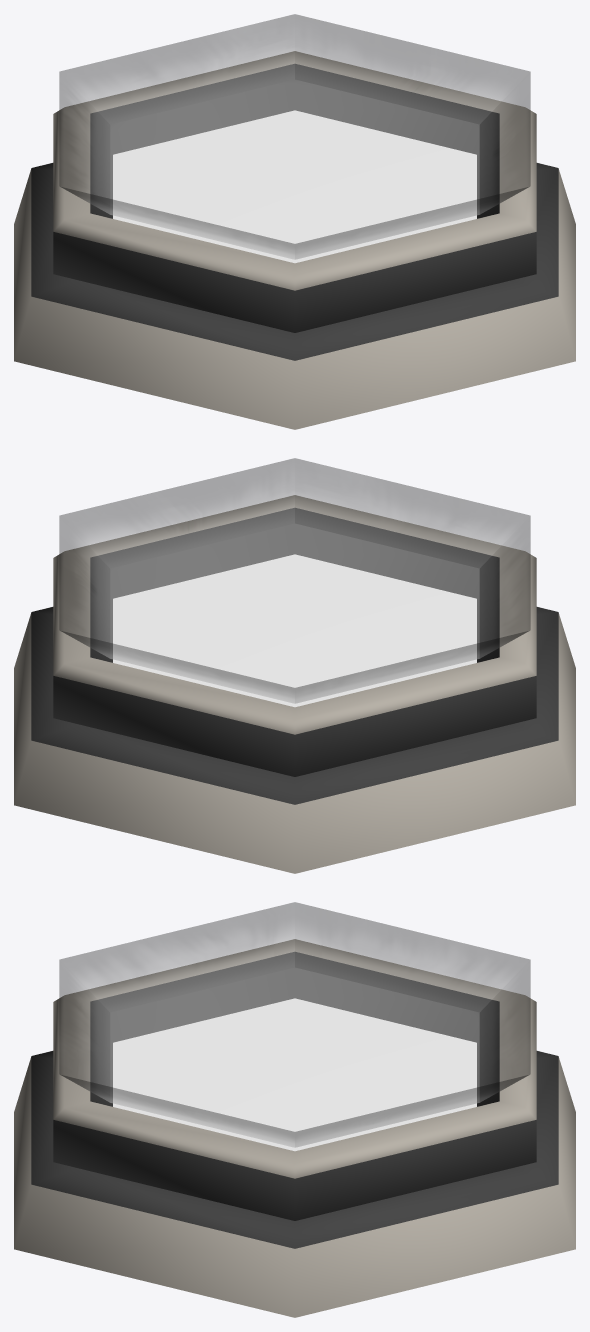
The model's file is RecessedLight.fbx.
The picture shows the model from 3 angles, top to bottom: view 1: azimuth 30°, elevation 25°; view 2: azimuth 150°, elevation 25°; view 3: azimuth 270°, elevation 25°; orthographic projection.
Visible parts, largest first — view 1: RecessedLight, RecessedLight_Add; view 2: RecessedLight, RecessedLight_Add; view 3: RecessedLight, RecessedLight_Add.
Part boxes in pixels (x1,y1,x2,y2): RecessedLight: [14, 51, 575, 429]; RecessedLight_Add: [59, 14, 530, 259]; RecessedLight: [14, 495, 575, 873]; RecessedLight_Add: [59, 458, 530, 703]; RecessedLight: [14, 939, 575, 1317]; RecessedLight_Add: [59, 902, 530, 1147].
Size of the model in its own units: 2.28 by 0.6338 by 1.97.
